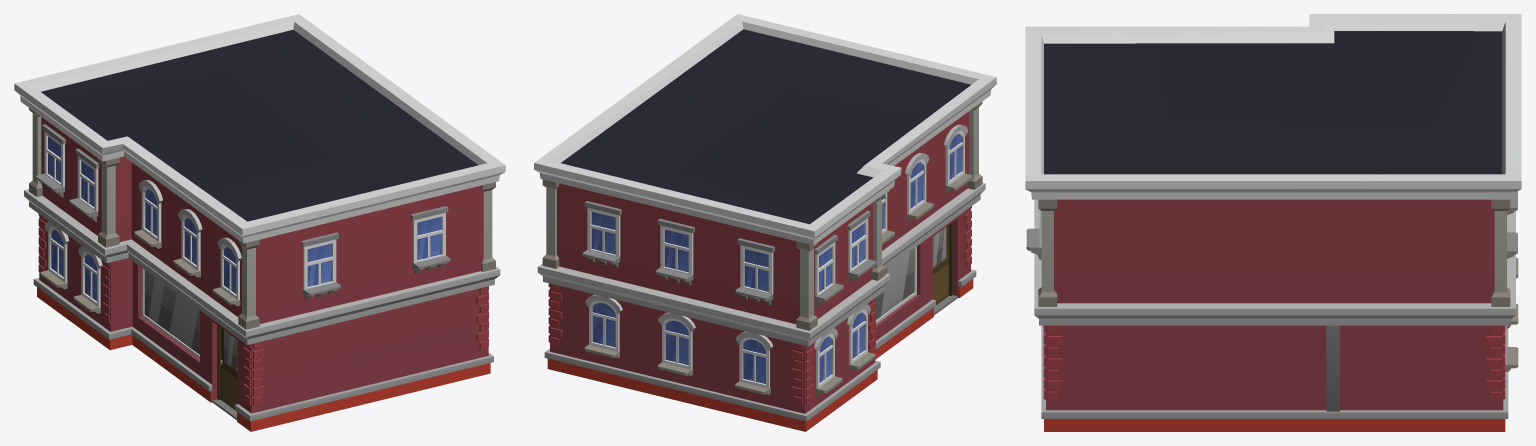
The model's file is Building_1_2_H.glb.
3 views of the same model, side by side, from view 1: azimuth 30°, elevation 25°; view 2: azimuth 150°, elevation 25°; view 3: azimuth 270°, elevation 25° (orthographic). The views are drawn at different scales.
Visible parts, largest first — view 1: Building_1_2_H; view 2: Building_1_2_H; view 3: Building_1_2_H.
Part boxes in pixels (bbox=[...]): Building_1_2_H: bbox=[14, 14, 505, 431]; Building_1_2_H: bbox=[534, 14, 996, 431]; Building_1_2_H: bbox=[1025, 14, 1521, 431].
Bounding box in the file's own units: 8.41 × 6 × 10.57.
Materials: 3 (3 with a texture image).
